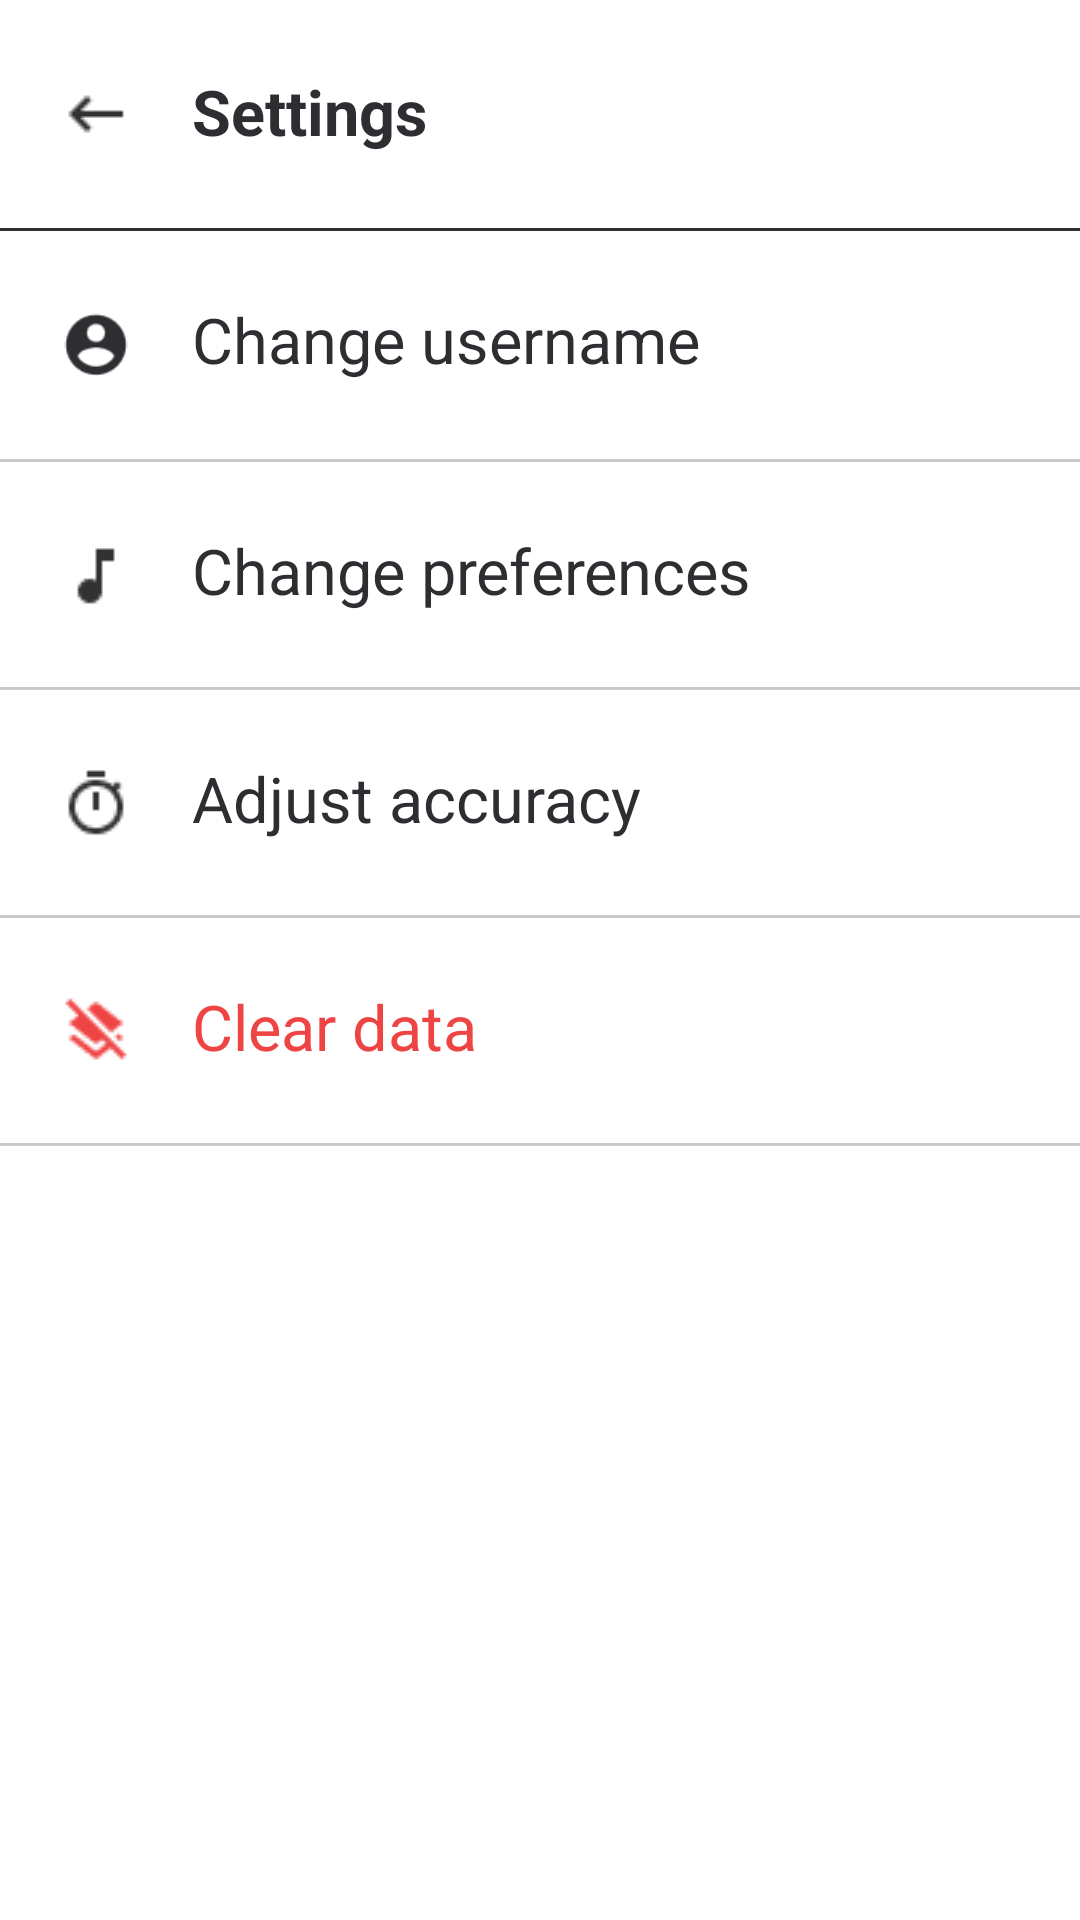

Icon bounding boxes for this 1080 × 1920 phone screenshot, format (x1, y1, x2, y2):
Timer: (68, 770, 124, 835)
